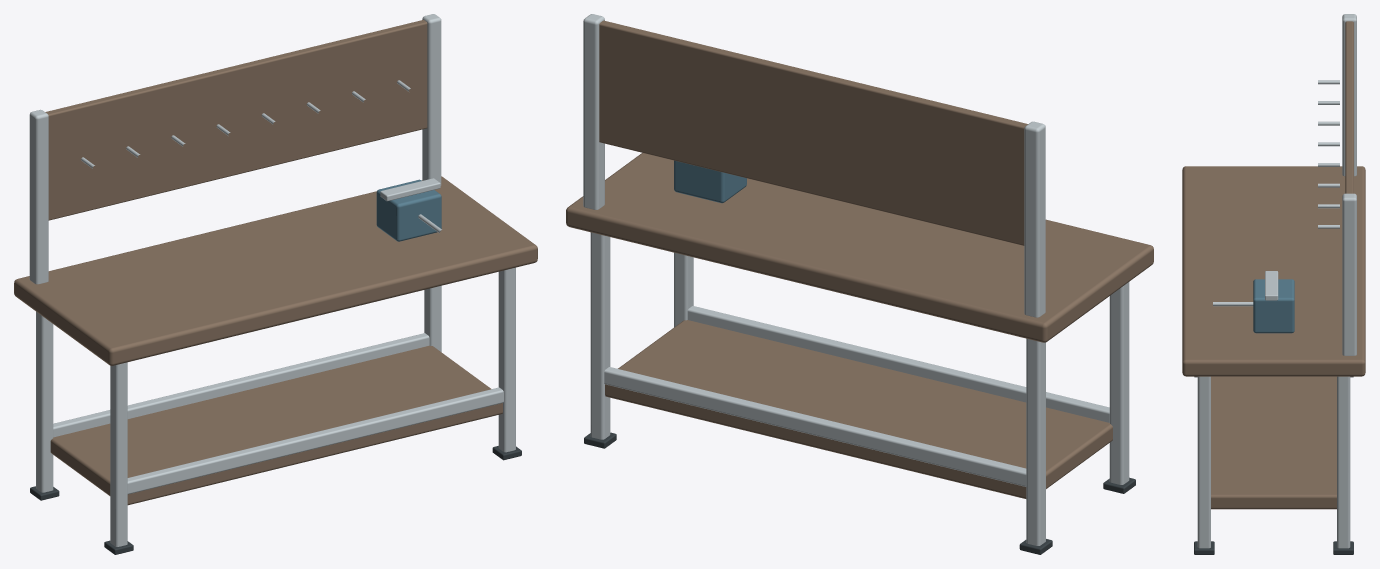
File: abandoned-weather-station-and-storm-shelter-repair-ben-7ac1e425__31038.glb
3 renders of one model, left to right at view 1: azimuth 30°, elevation 25°; view 2: azimuth 150°, elevation 25°; view 3: azimuth 270°, elevation 25°, orthographic. The views are drawn at different scales.
Parts seen in each view (by area): view 1: repair-bench; view 2: repair-bench; view 3: repair-bench.
Part boxes in pixels (bbox=[...]): repair-bench: bbox=[14, 14, 537, 554]; repair-bench: bbox=[566, 14, 1153, 554]; repair-bench: bbox=[1182, 14, 1365, 554].
Bounding box in the file's own units: 1.9 × 1.61 × 0.7499.
